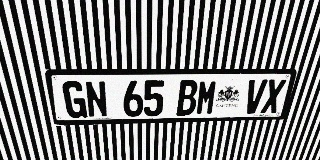5: (144, 80, 164, 116)
6: (123, 80, 143, 117)
B: (176, 80, 199, 116)
G: (61, 81, 88, 118)
M: (195, 80, 219, 115)
N: (84, 81, 108, 118)
V: (242, 79, 268, 114)
X: (260, 79, 287, 113)
